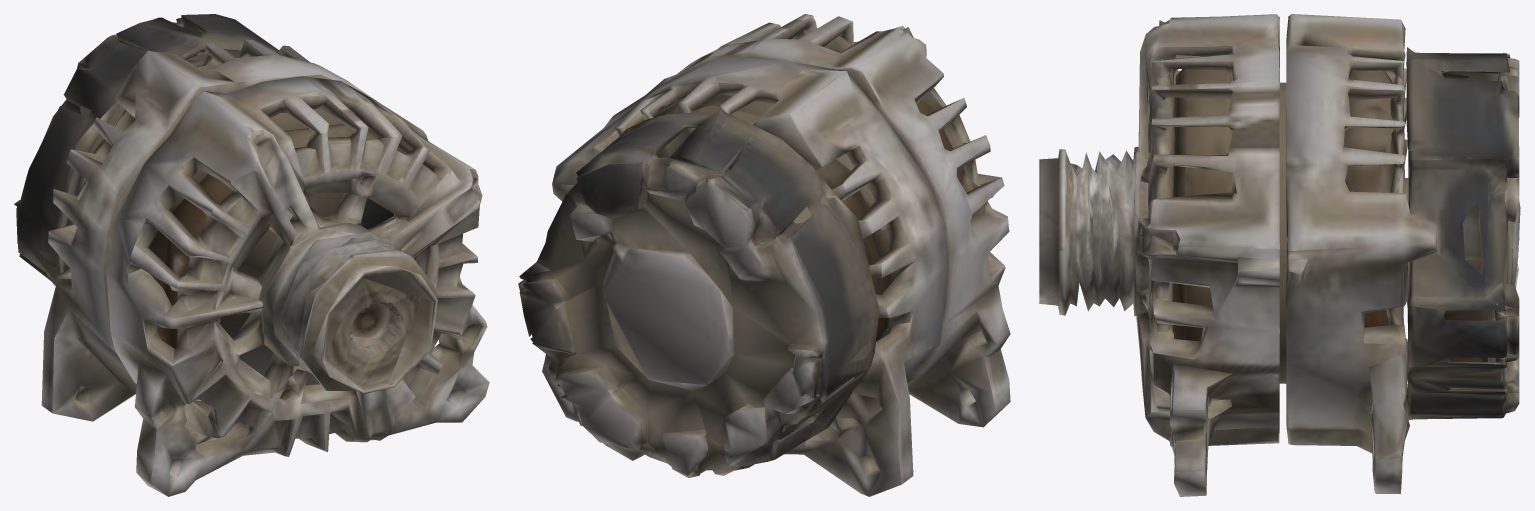
The model's file is alt.glb.
3 renders of one model, left to right at view 1: azimuth 30°, elevation 25°; view 2: azimuth 150°, elevation 25°; view 3: azimuth 270°, elevation 25°, orthographic. The views are drawn at different scales.
Parts seen in each view (by area): view 1: alt; view 2: alt; view 3: alt.
Boxes of the visible parts, box(x1,y1,x2,y2) form: alt: box(14, 14, 489, 496); alt: box(518, 14, 1010, 496); alt: box(1039, 14, 1520, 496).
Bounding box in the file's own units: 0.1751 × 0.171 × 0.2.
1 material, 1 textured.
